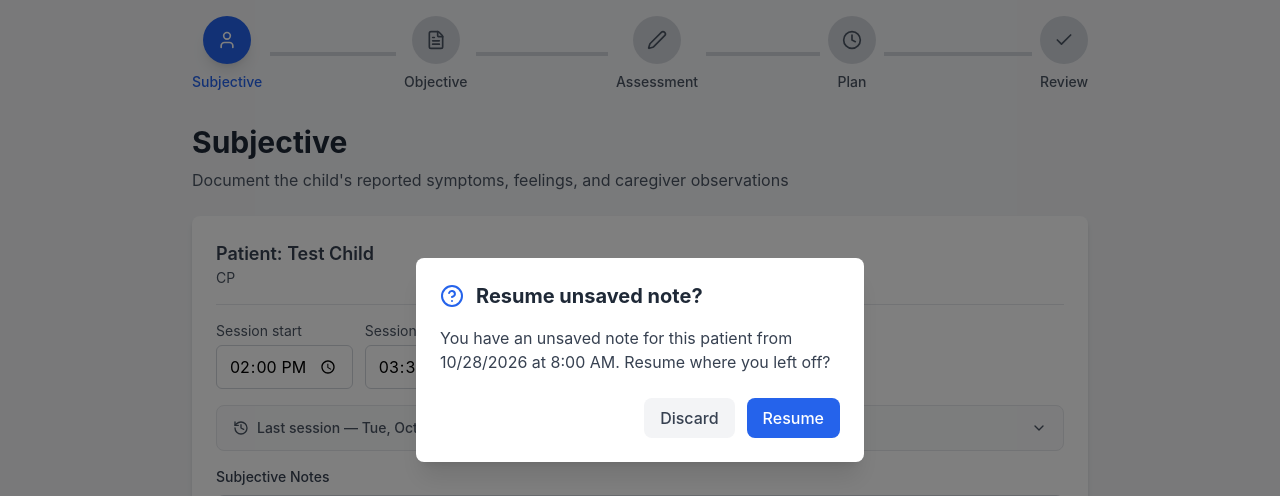
Test: an old-format draft saved before Review takes the defaults, not its placeholder times
Click the button "Resume": coordinates (793, 418) [747,398,840,438]
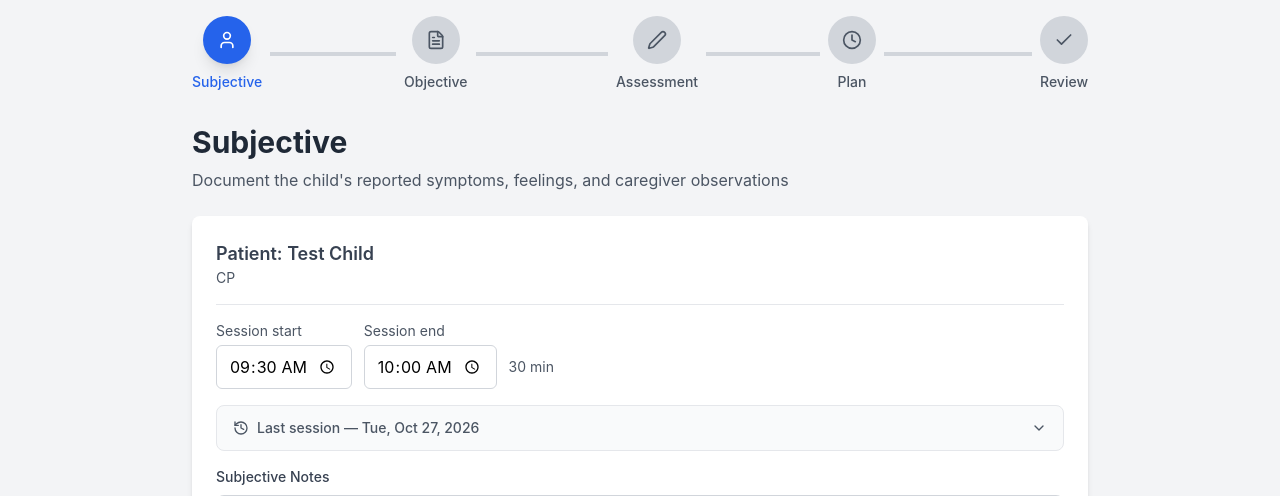
expect the time field labelled "Session start" holds "09:30": met, box [216,345,352,389]
expect the time field labelled "Session end" holds "10:00": met, box [364,345,497,389]
